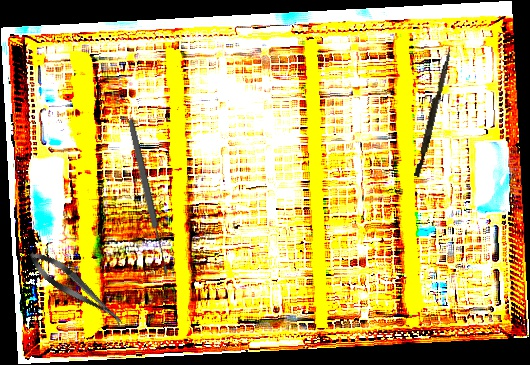Micro Scissor: (23, 244, 130, 333)
Pusher: (413, 47, 453, 178)
Surgical Spoon: (125, 118, 171, 275)
